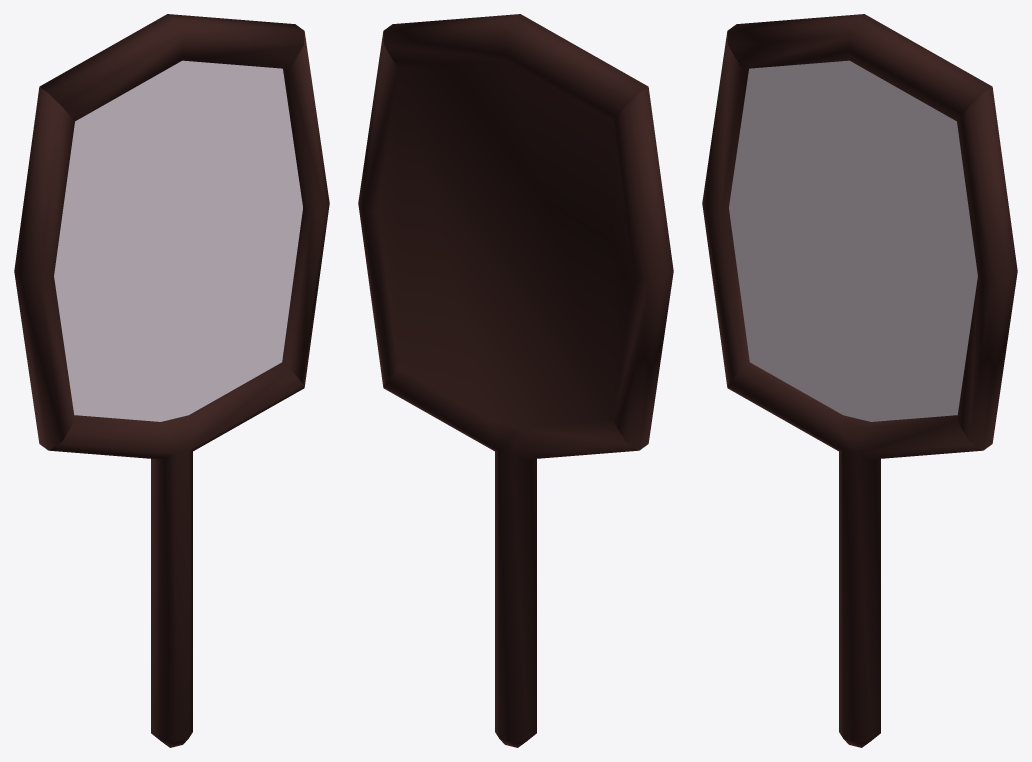
File: handheld_mirror.glb
The picture shows the model from 3 angles, left to right: view 1: azimuth 30°, elevation 25°; view 2: azimuth 150°, elevation 25°; view 3: azimuth 330°, elevation 25°; orthographic projection.
Visible parts, largest first — view 1: Plane.001, Plane; view 2: Plane; view 3: Plane.001, Plane.
Part boxes in pixels (x1,y1,x2,y2): Plane.001: [54, 60, 302, 421]; Plane: [14, 14, 329, 747]; Plane: [358, 14, 673, 747]; Plane.001: [729, 60, 977, 421]; Plane: [702, 14, 1017, 747].
Bounding box in the file's own units: 4.28 × 9.7 × 0.5.
